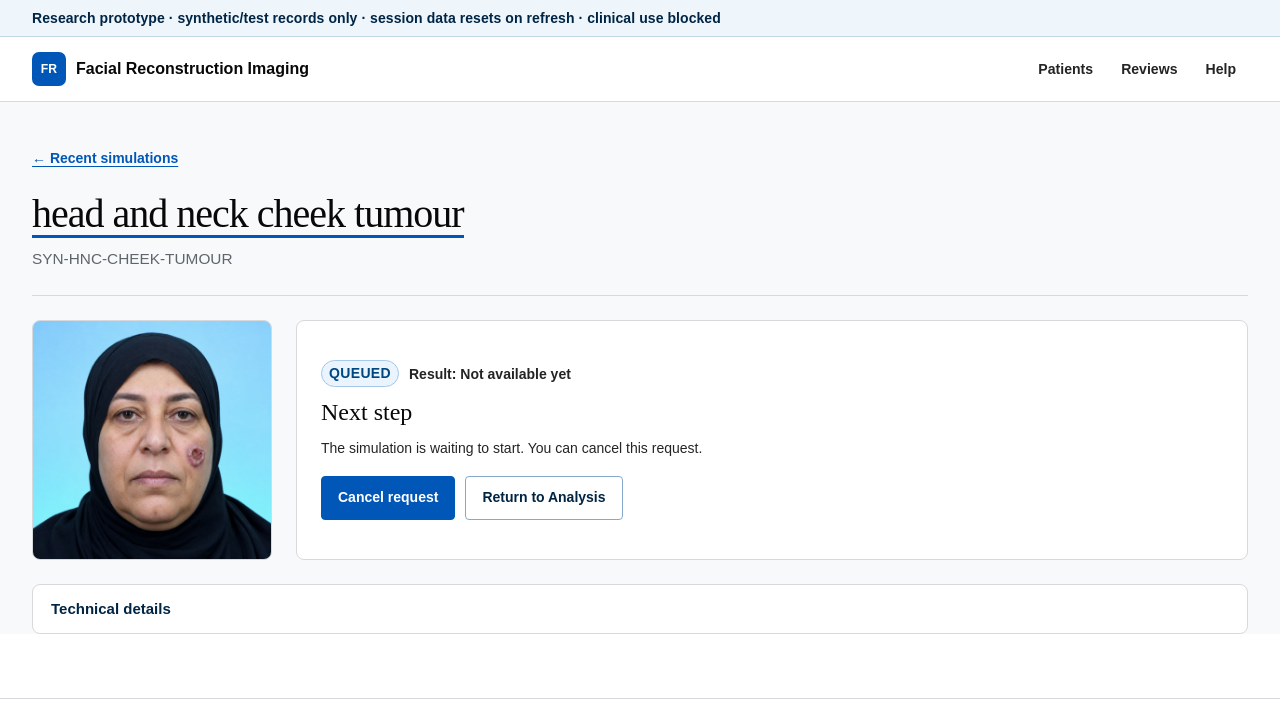
it: session runs › offers an exact Cancel request for a queued active attempt
Click the button "Cancel request": (388, 498) [321,476,455,520]
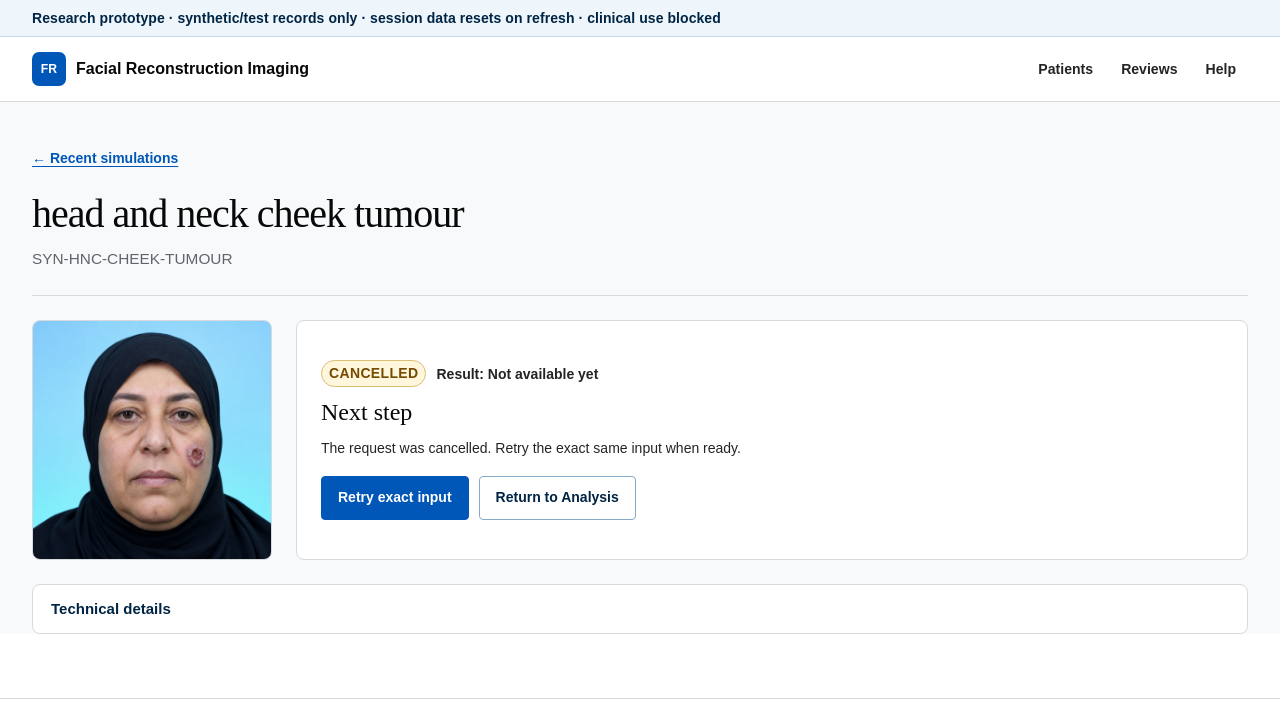
Now the element named "Run status cancelled" is shown, box [321,360,426,387]
Now the button "Cancel request" is gone
Now the button "Retry exact input" is shown, box [321,476,469,520]
